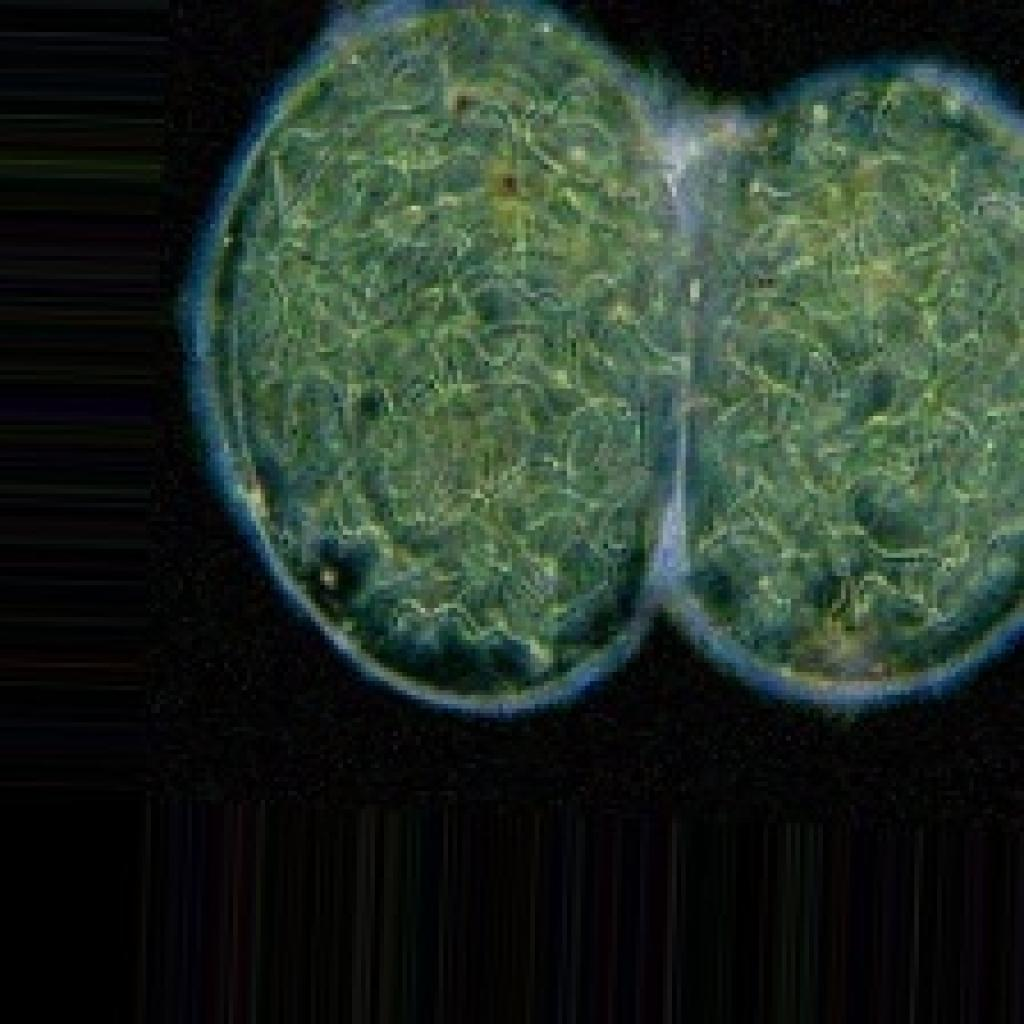Sphericalbacteria: (174, 0, 695, 718), (663, 55, 1019, 708)
